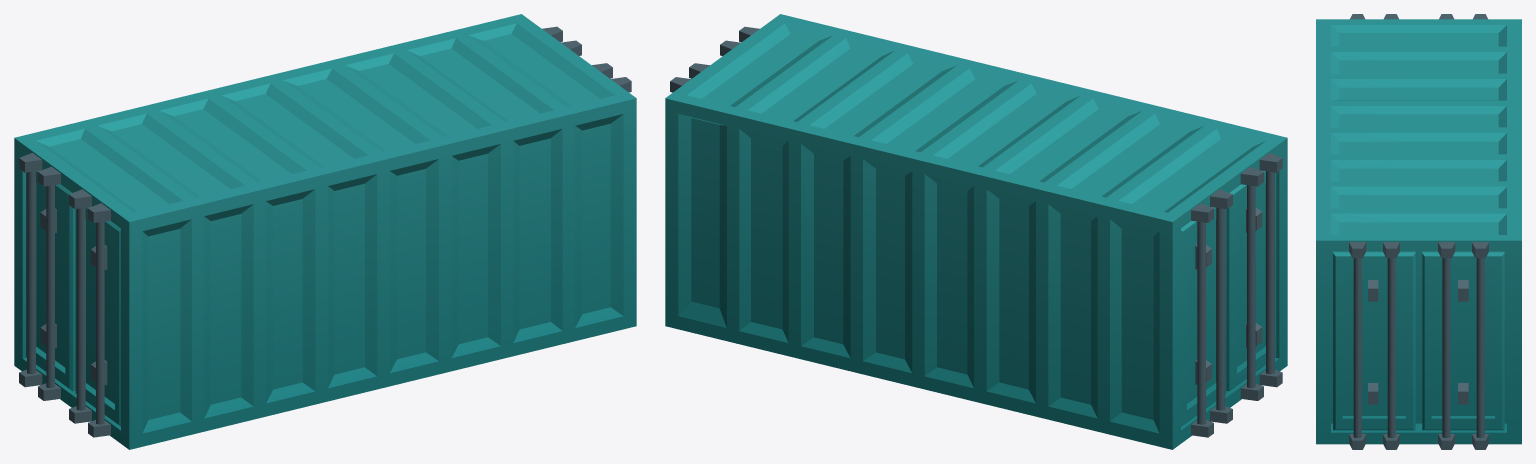
Rendered from CC_Blue.fbx.
3 renders of one model, left to right at view 1: azimuth 30°, elevation 25°; view 2: azimuth 150°, elevation 25°; view 3: azimuth 270°, elevation 25°, orthographic. The views are drawn at different scales.
Visible parts, largest first — view 1: CC_Blue; view 2: CC_Blue; view 3: CC_Blue.
Boxes of the visible parts, box(x1,y1,x2,y2) form: CC_Blue: box(14, 14, 636, 449); CC_Blue: box(665, 14, 1287, 449); CC_Blue: box(1316, 14, 1521, 449).
Size of the model in its own units: 648 by 262 by 240.
